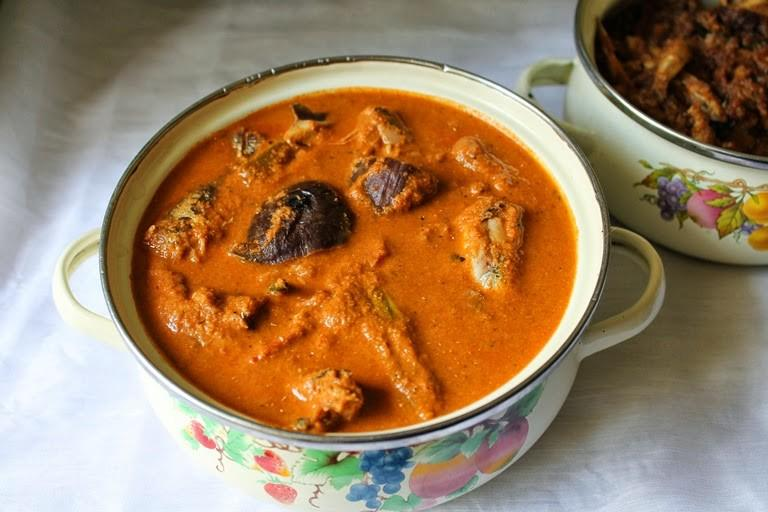FishCurry: (132, 91, 576, 438)
